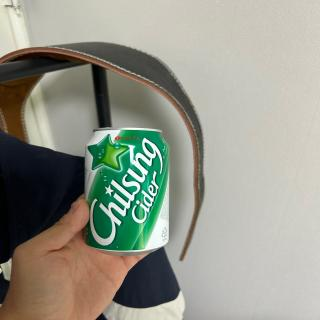cocacola: (80, 123, 172, 255)
